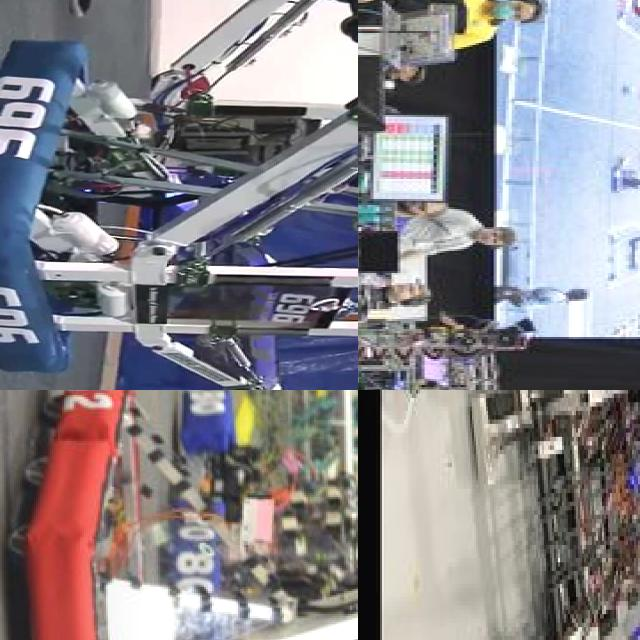FRC-Robots: (0, 0, 358, 390), (15, 390, 358, 640), (358, 156, 563, 390), (484, 390, 640, 640)
